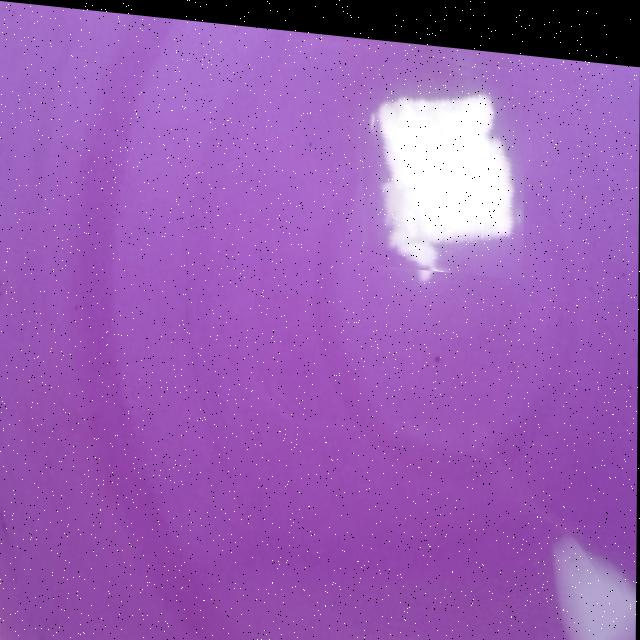thermocoal: (354, 37, 525, 268)
